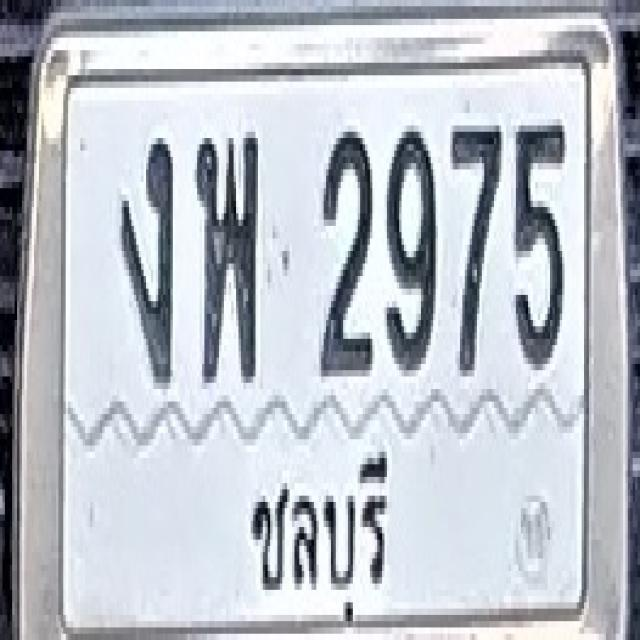-: (195, 125, 258, 383), (119, 132, 173, 383)
2: (319, 126, 372, 377)
5: (514, 122, 564, 367)
7: (450, 122, 501, 374)
9: (384, 126, 436, 370)
CBI: (238, 433, 397, 637)
